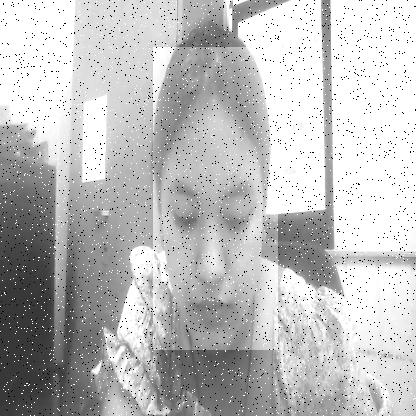Normal: (153, 47, 278, 350)
